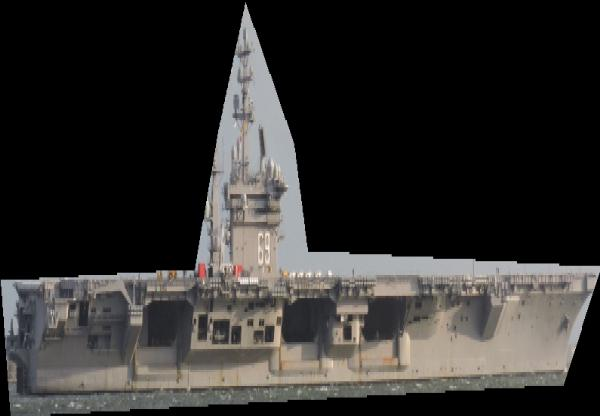Aircraft Carrier: (1, 2, 600, 416)
